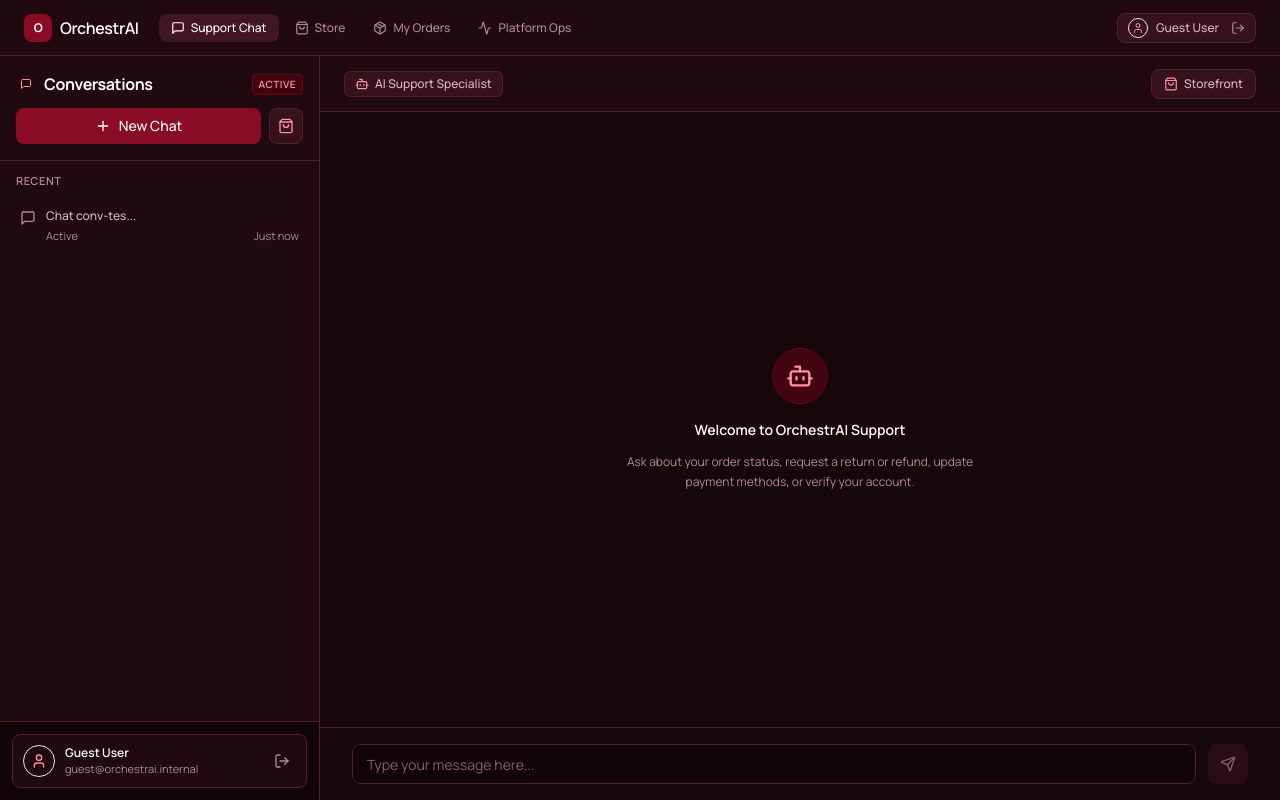
HomePage Customer Chat Integration › allows clicking conversation item in sidebar to load messages
Click the button with test id "conversation-item-conv-test-111": (61, 215) [8, 198, 311, 256]
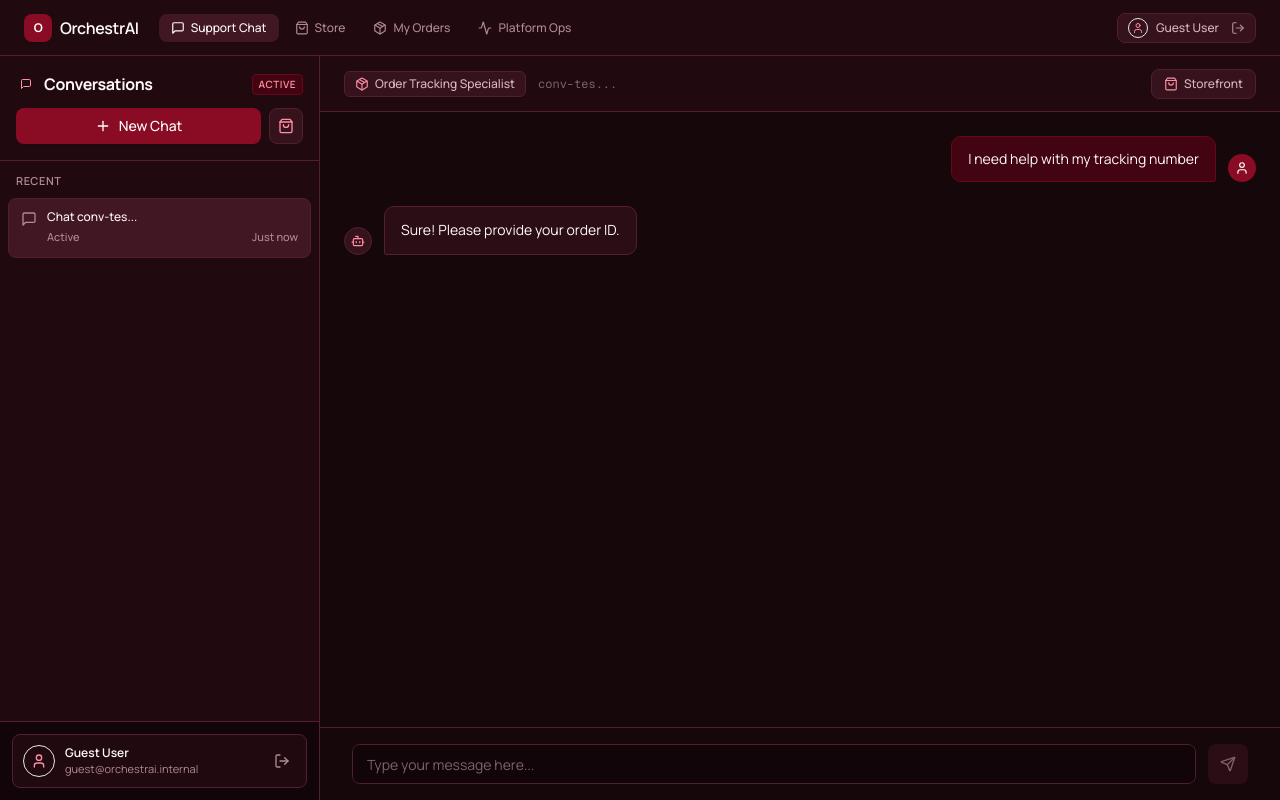
Result: the text "I need help with my tracking number" is shown at [968, 149, 1199, 168]
Result: the text "Sure! Please provide your order ID." is shown at [401, 219, 620, 242]
